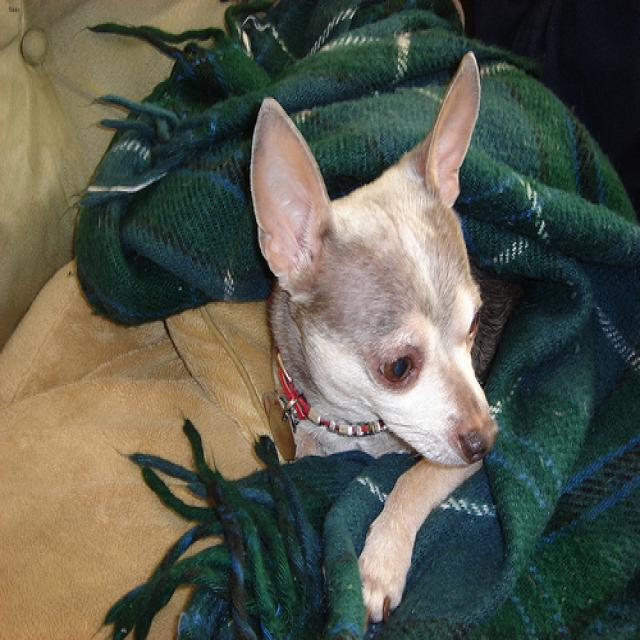dog-chihuahua: (241, 39, 517, 635)
